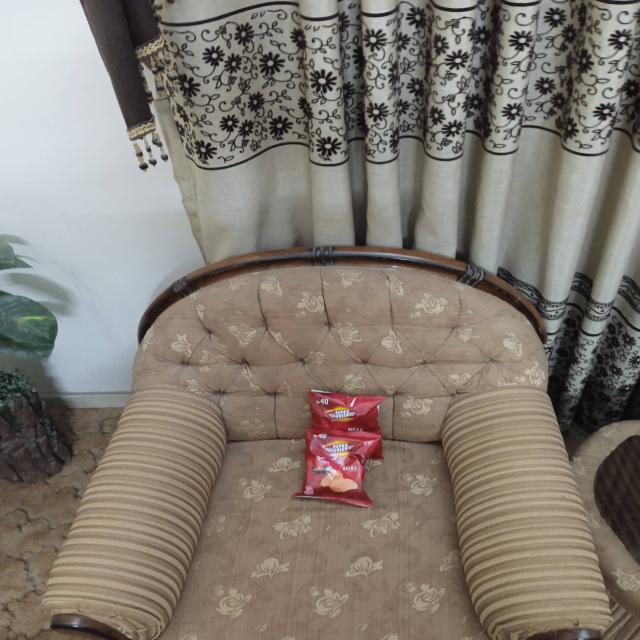Plastic: (302, 437, 379, 500), (312, 390, 384, 432)
